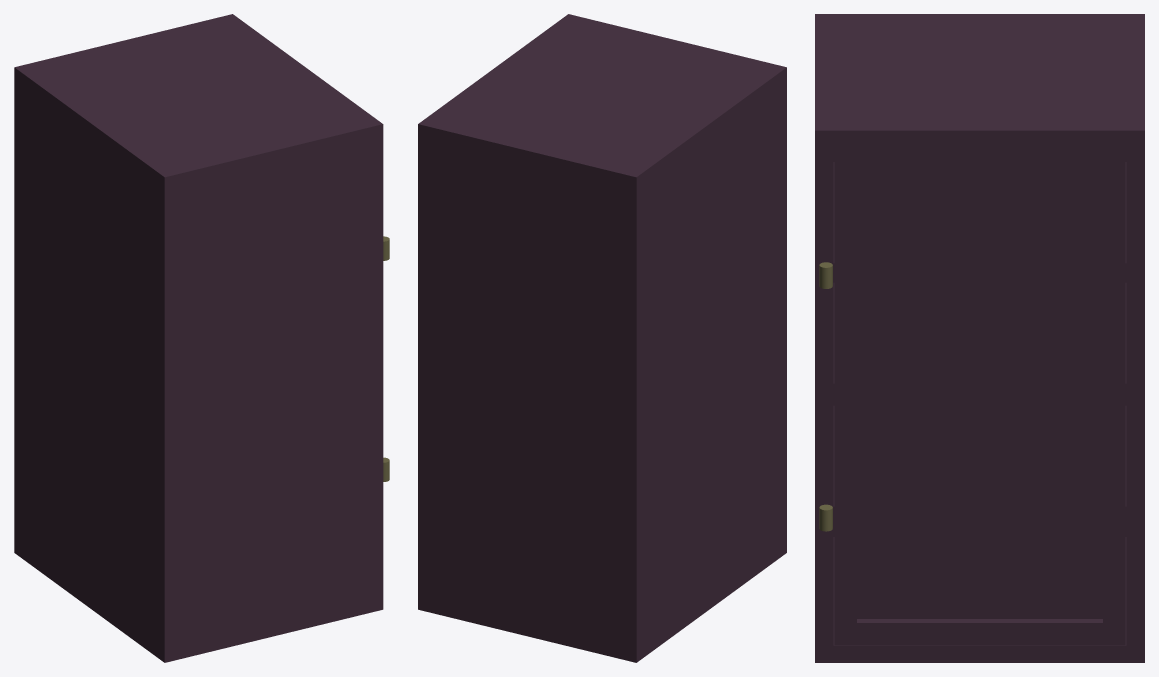
File: lvl1_kitchen cabinet_2.fbx
3 views of the same model, side by side, from view 1: azimuth 30°, elevation 25°; view 2: azimuth 150°, elevation 25°; view 3: azimuth 270°, elevation 25° (orthographic). The views are drawn at different scales.
Visible parts, largest first — view 1: pCube22; view 2: pCube22; view 3: pCube26, pCube22.
Boxes of the visible parts, left/top/right/bottom form: pCube22: left=14, top=14, right=383, bottom=662; pCube22: left=418, top=14, right=786, bottom=662; pCube26: left=834, top=148, right=1125, bottom=645; pCube22: left=815, top=14, right=1144, bottom=662.
Bounding box in the file's own units: 25.61 × 51.87 × 29.12.
